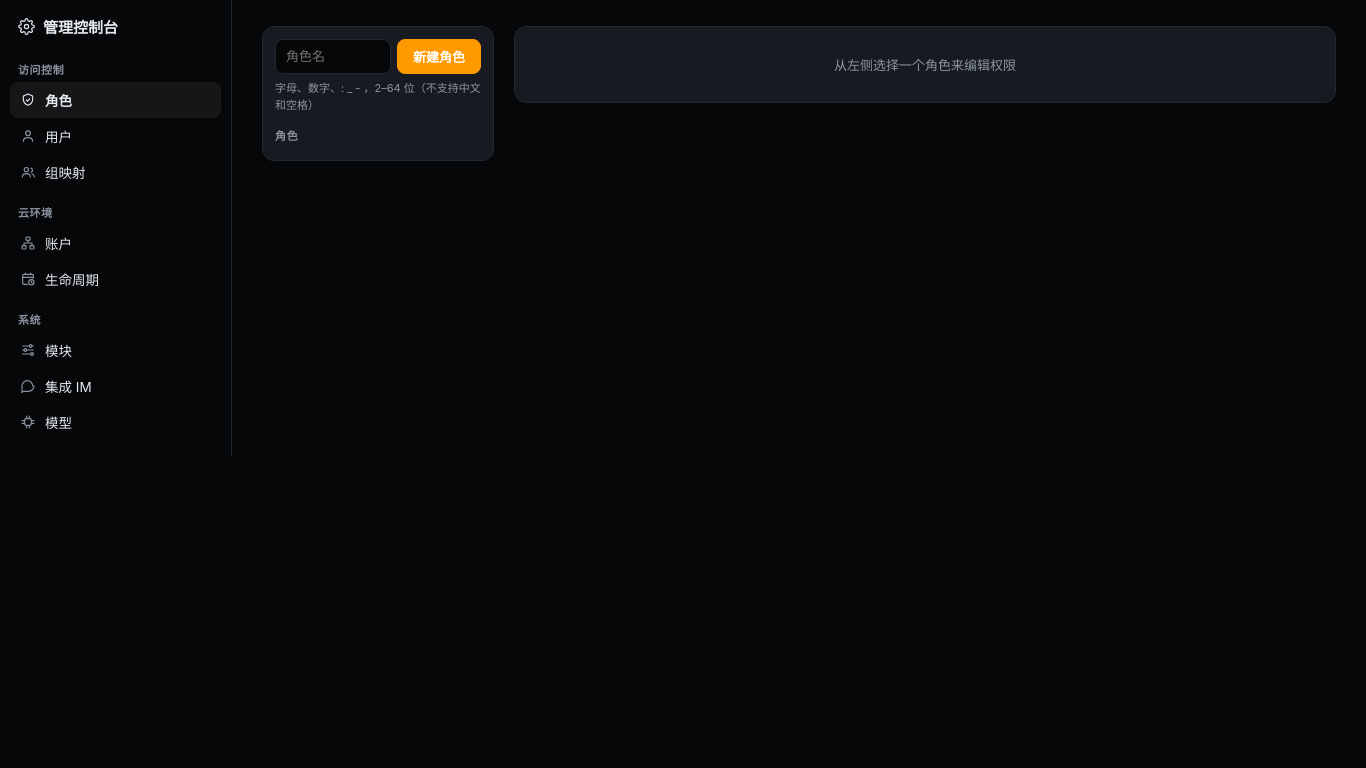
Test: Admin「集成 IM」凭证表单 › 未配置的钥匙显示为空白输入框，不是 ****
What coordinates should you click on to do the following:
click the button "集成 IM"
I would click on:
 (116, 386)
Its box is [10,368,221,404].
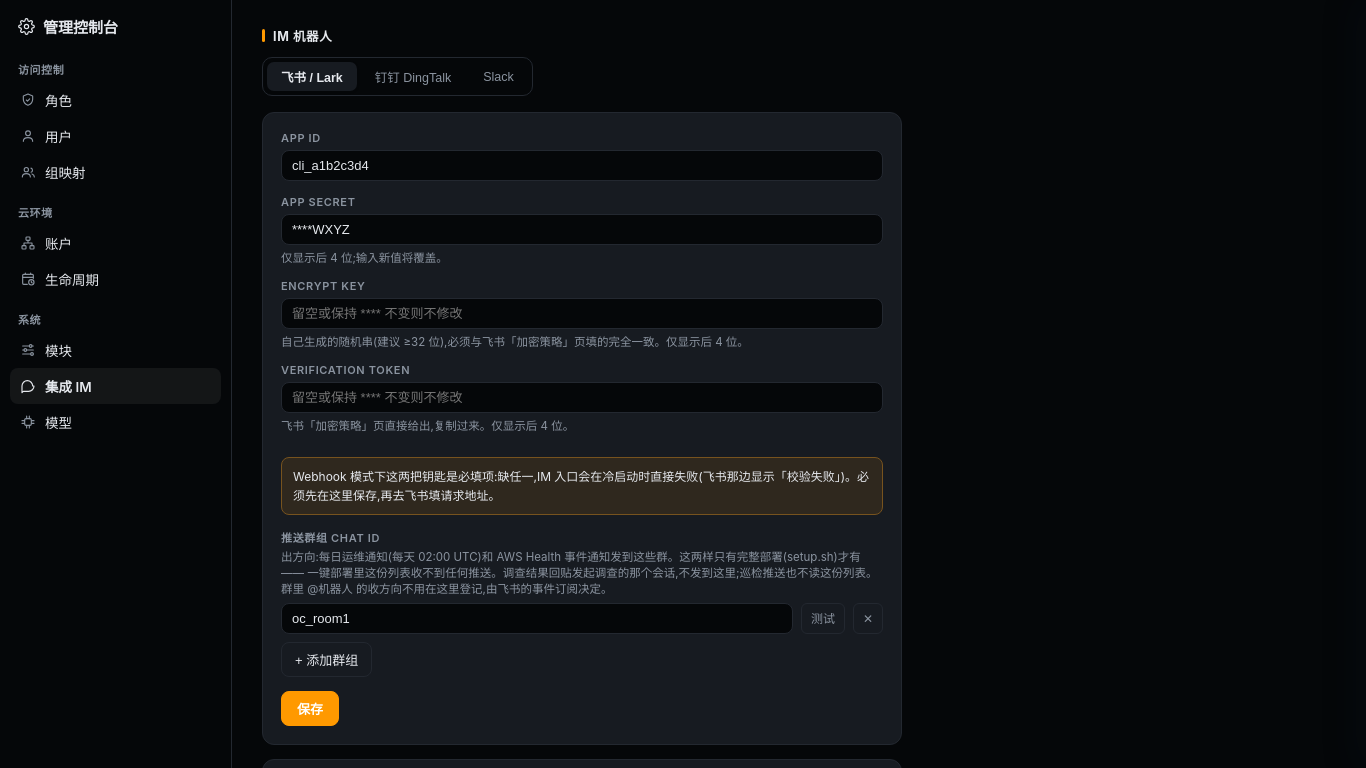
Result: the field below "App Secret" holds "****WXYZ" at [281,214,883,245]
Result: the 1st password field with placeholder "留空或保持 **** 不变则不修改" is empty at [281,298,883,329]
Result: the 2nd password field with placeholder "留空或保持 **** 不变则不修改" is empty at [281,382,883,413]
